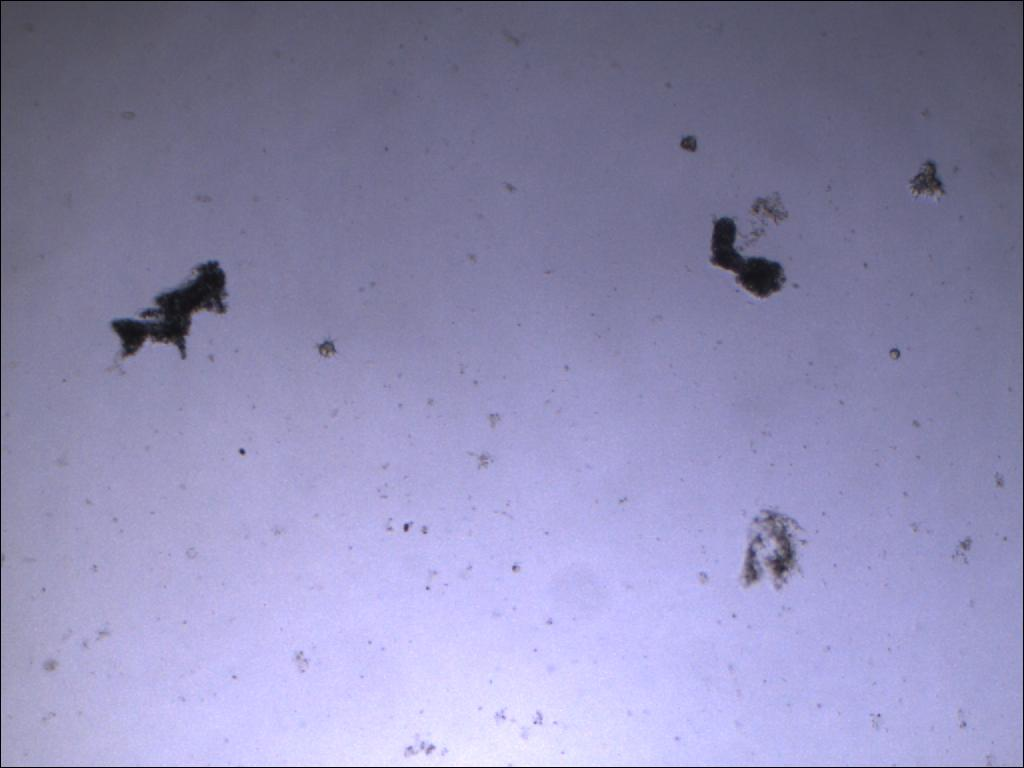amoeba: (103, 257, 241, 369), (703, 211, 791, 306)
